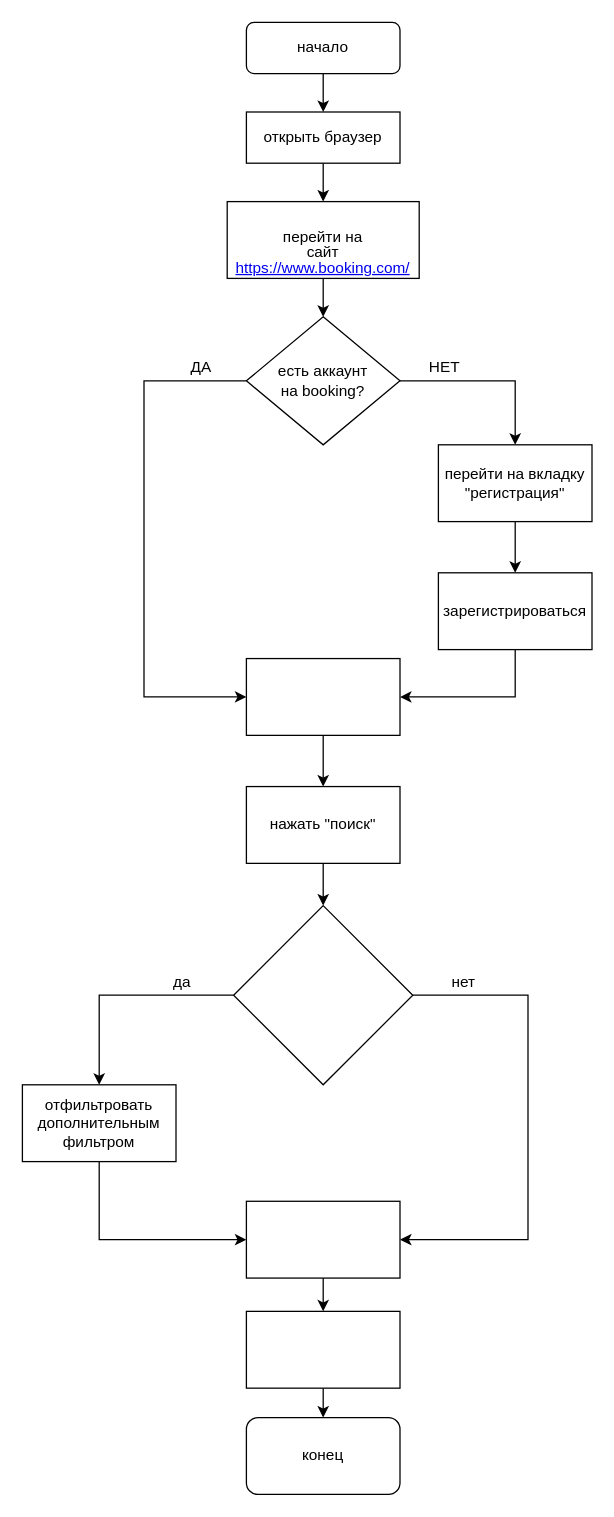
The diagram is 614 pixels wide and 1517 high, and some of its shapes have lost their labels. The shapes that lost their labels are listed below. From the top down, each one's centre as x and y in pixels, then its label:
pixel 322 696: заполнить строку поиска
pixel 322 994: результатов поиска много?
pixel 322 1239: выбрать понравившийся отель из списка
pixel 322 1349: завершить бронирование
